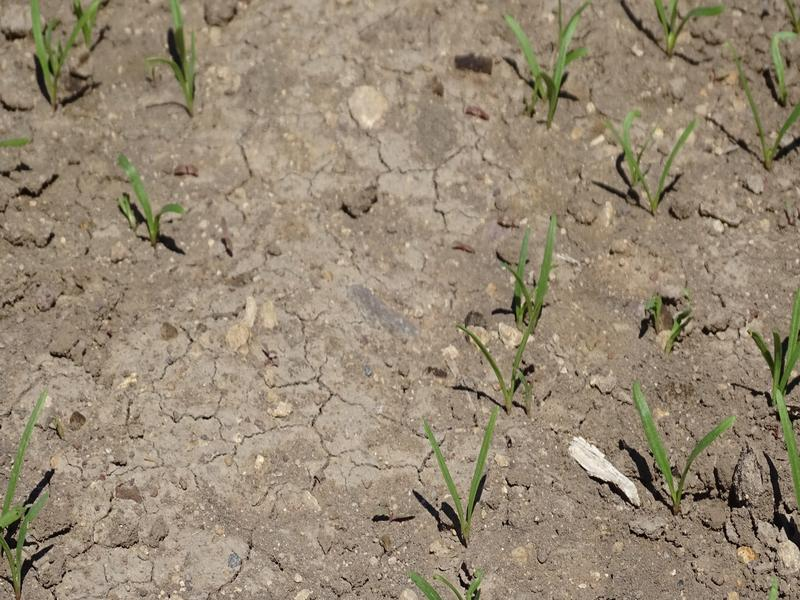Espinaca: (630, 373, 731, 515), (421, 409, 504, 534), (1, 387, 52, 578), (505, 2, 583, 117), (752, 309, 800, 490), (607, 116, 688, 211), (32, 1, 105, 97), (459, 320, 540, 401), (737, 63, 800, 165), (119, 151, 182, 243), (155, 4, 205, 109), (507, 233, 561, 317), (650, 1, 716, 51)
